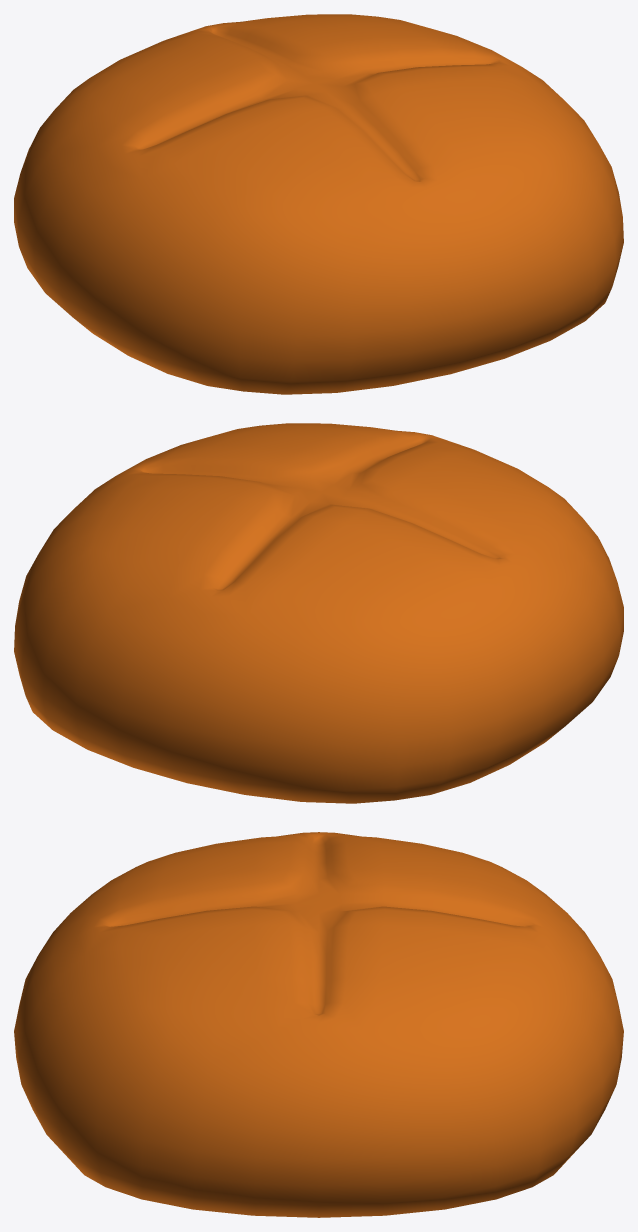
Rendered from Bread1.fbx.
The picture shows the model from 3 angles, top to bottom: view 1: azimuth 30°, elevation 25°; view 2: azimuth 150°, elevation 25°; view 3: azimuth 270°, elevation 25°; orthographic projection. The views are drawn at different scales.
Parts seen in each view (by area): view 1: Bread1; view 2: Bread1; view 3: Bread1.
Part boxes in pixels (box(x1,y1,x2,y2)): Bread1: box(14, 14, 623, 394); Bread1: box(14, 423, 623, 803); Bread1: box(14, 832, 623, 1217).
Bounding box in the file's own units: 1.24 × 1.24 × 0.5049.
